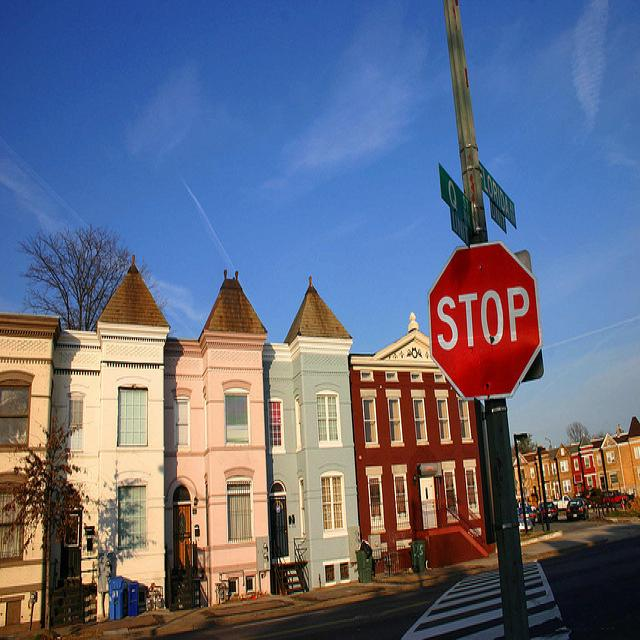Vehicle: (566, 499, 589, 522), (602, 489, 632, 506), (538, 501, 558, 524), (517, 505, 536, 526), (518, 515, 533, 532), (554, 494, 570, 509), (518, 500, 537, 512), (584, 488, 601, 501)
